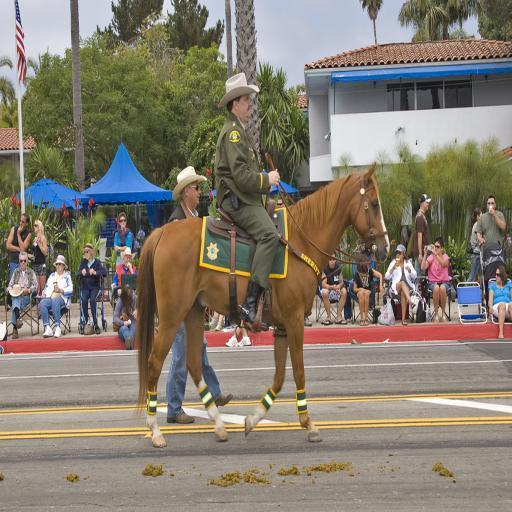horse: (132, 158, 392, 450)
